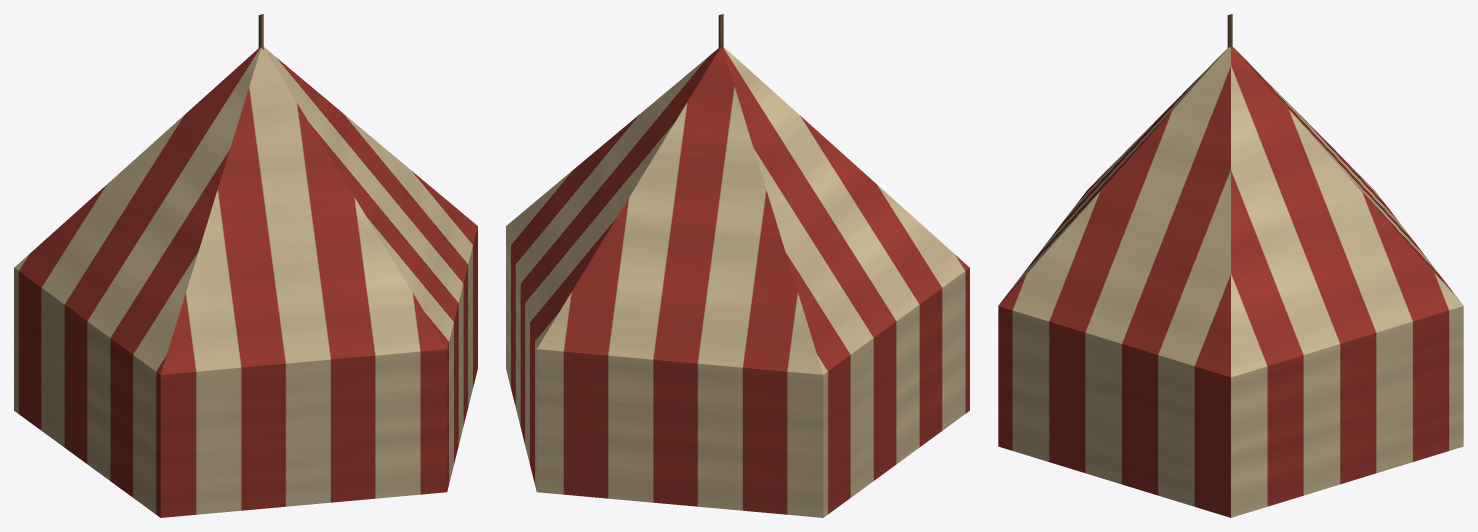
The model's file is Tent_Striped_1_LOD2.gltf.
3 renders of one model, left to right at view 1: azimuth 30°, elevation 25°; view 2: azimuth 150°, elevation 25°; view 3: azimuth 270°, elevation 25°, orthographic.
Visible parts, largest first — view 1: Tent_Striped_1_LOD2; view 2: Tent_Striped_1_LOD2; view 3: Tent_Striped_1_LOD2.
Part boxes in pixels (box(x1,y1,x2,y2)): Tent_Striped_1_LOD2: box(14, 14, 477, 517); Tent_Striped_1_LOD2: box(506, 14, 969, 517); Tent_Striped_1_LOD2: box(998, 14, 1463, 517).
Size of the model in its own units: 5.43 by 5.4 by 5.71.
Materials: 2 (2 with a texture image).
